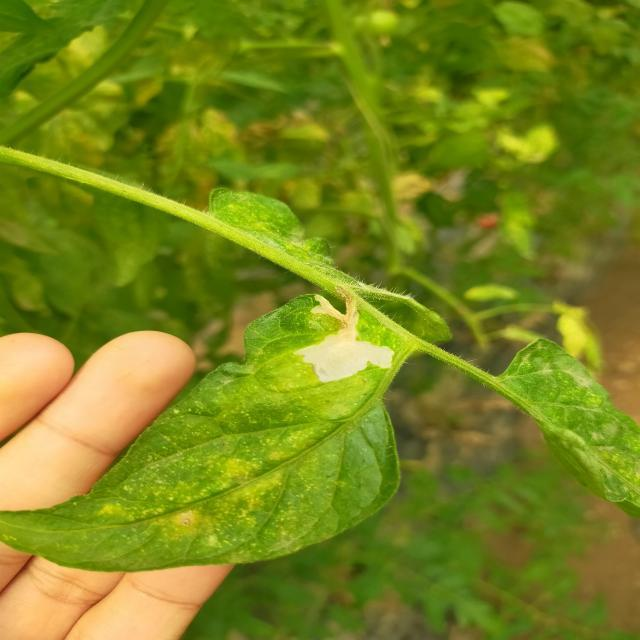Tuta absoluta: (276, 279, 404, 408)
